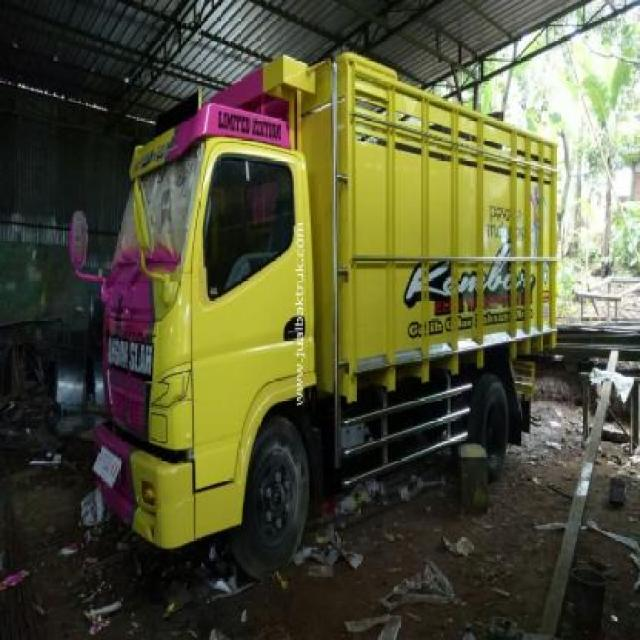truck: (71, 46, 557, 578)
